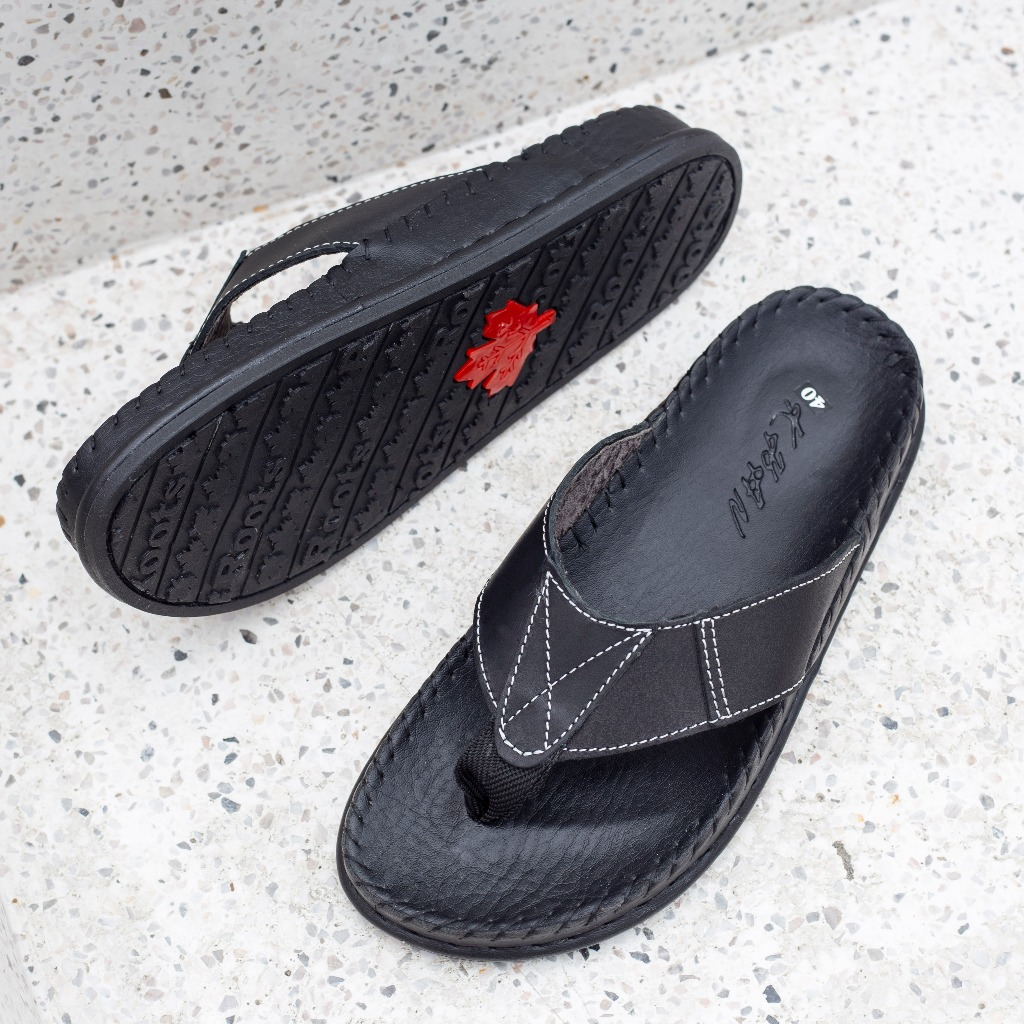flip_flops: (333, 285, 934, 960), (52, 106, 743, 615)
